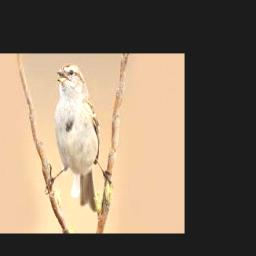Sparrow: (45, 64, 112, 211)
